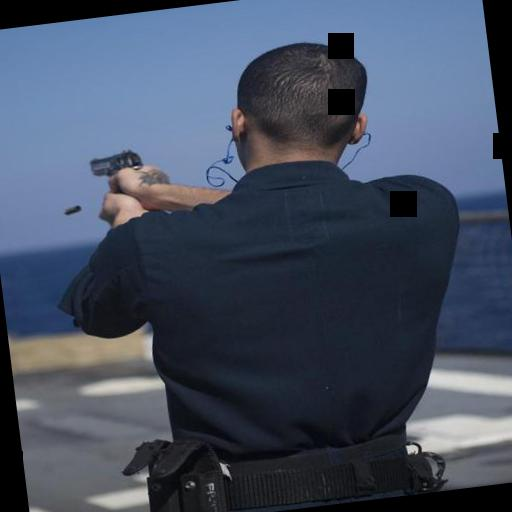Handgun: (82, 145, 146, 183)
